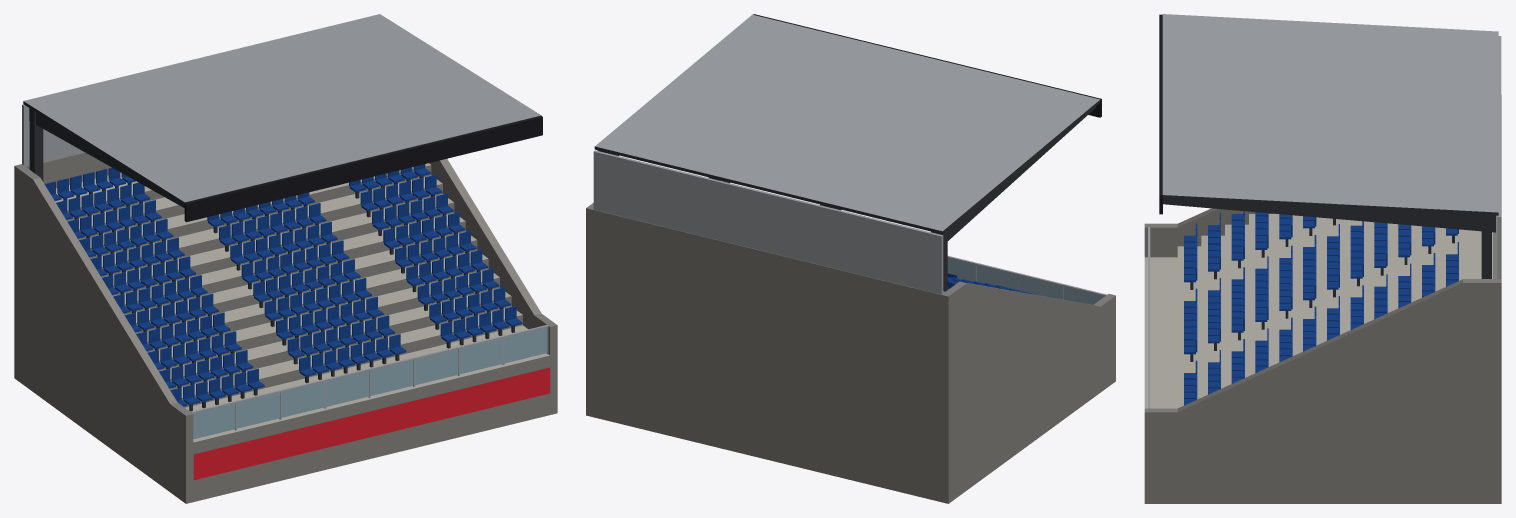
File: standCovered.glb
3 views of the same model, side by side, from view 1: azimuth 30°, elevation 25°; view 2: azimuth 150°, elevation 25°; view 3: azimuth 270°, elevation 25° (orthographic). The views are drawn at different scales.
Visible parts, largest first — view 1: terrace, roof, seats, front; view 2: terrace, roof, front; view 3: terrace, roof, seats, front.
Boxes of the visible parts, x1,y1,x2,y2 form: terrace: (14, 151, 557, 503); roof: (22, 14, 542, 222); seats: (44, 164, 522, 411); front: (191, 325, 550, 480); terrace: (586, 203, 1115, 503); roof: (593, 14, 1101, 294); front: (947, 256, 1106, 304); terrace: (1144, 94, 1501, 503); roof: (1159, 14, 1501, 278); seats: (1184, 211, 1458, 405); front: (1148, 227, 1150, 408).
Bounding box in the file's own units: 15 × 11.32 × 12.02.
